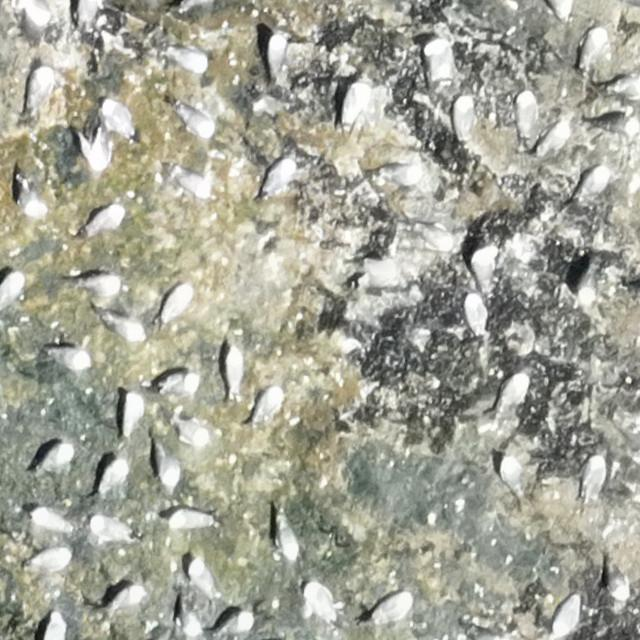umineko: (418, 38, 451, 101), (170, 96, 216, 140), (152, 283, 193, 327), (364, 594, 416, 627), (494, 373, 529, 422), (338, 81, 372, 131), (101, 98, 136, 146), (17, 169, 49, 219), (471, 242, 499, 299), (82, 205, 128, 239), (69, 270, 121, 300), (170, 164, 214, 199), (78, 130, 116, 170), (261, 157, 297, 199), (151, 434, 179, 488), (164, 41, 211, 73), (248, 386, 284, 426), (102, 310, 146, 342), (27, 67, 53, 121), (514, 90, 538, 146), (188, 555, 216, 603), (94, 518, 142, 545), (96, 460, 126, 503), (370, 163, 428, 185), (305, 582, 335, 624), (573, 167, 609, 202), (31, 508, 76, 536), (501, 456, 525, 508), (580, 454, 604, 505), (38, 444, 74, 478), (175, 416, 212, 449), (454, 93, 477, 146), (552, 593, 580, 636), (576, 260, 601, 307), (21, 4, 49, 44), (108, 583, 145, 613), (26, 547, 72, 571), (276, 515, 299, 562), (538, 120, 568, 156), (581, 27, 608, 66), (265, 33, 288, 78), (42, 608, 74, 640), (178, 596, 203, 636), (216, 612, 255, 637), (223, 347, 243, 395), (125, 390, 144, 440), (604, 564, 628, 602), (51, 344, 88, 368), (1, 271, 24, 309), (158, 376, 198, 394), (173, 510, 206, 528), (464, 296, 480, 330)
